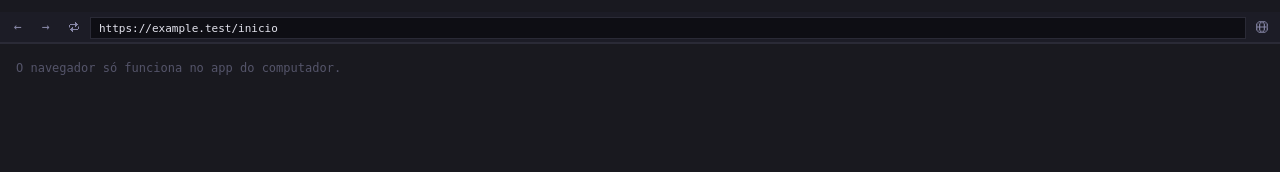
Test case: navega ao enviar example.test/ajuda
The image size is (1280, 172).
Step 1. Replace the text in the field named "Endereço" with "example.test/ajuda" → point(668, 28), box [90,17,1246,39]
Then press Enter
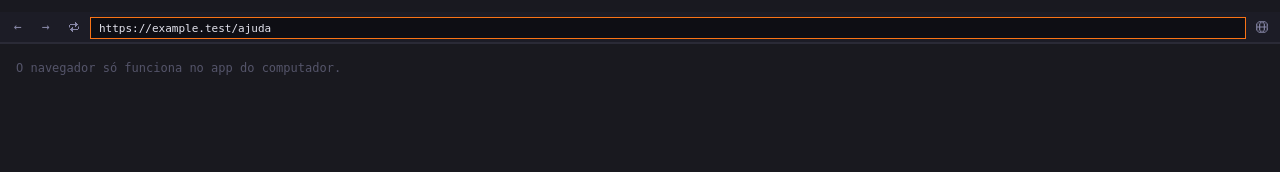
Check: the field named "Endereço" holds "https://example.test/ajuda", box [90,17,1246,39]
